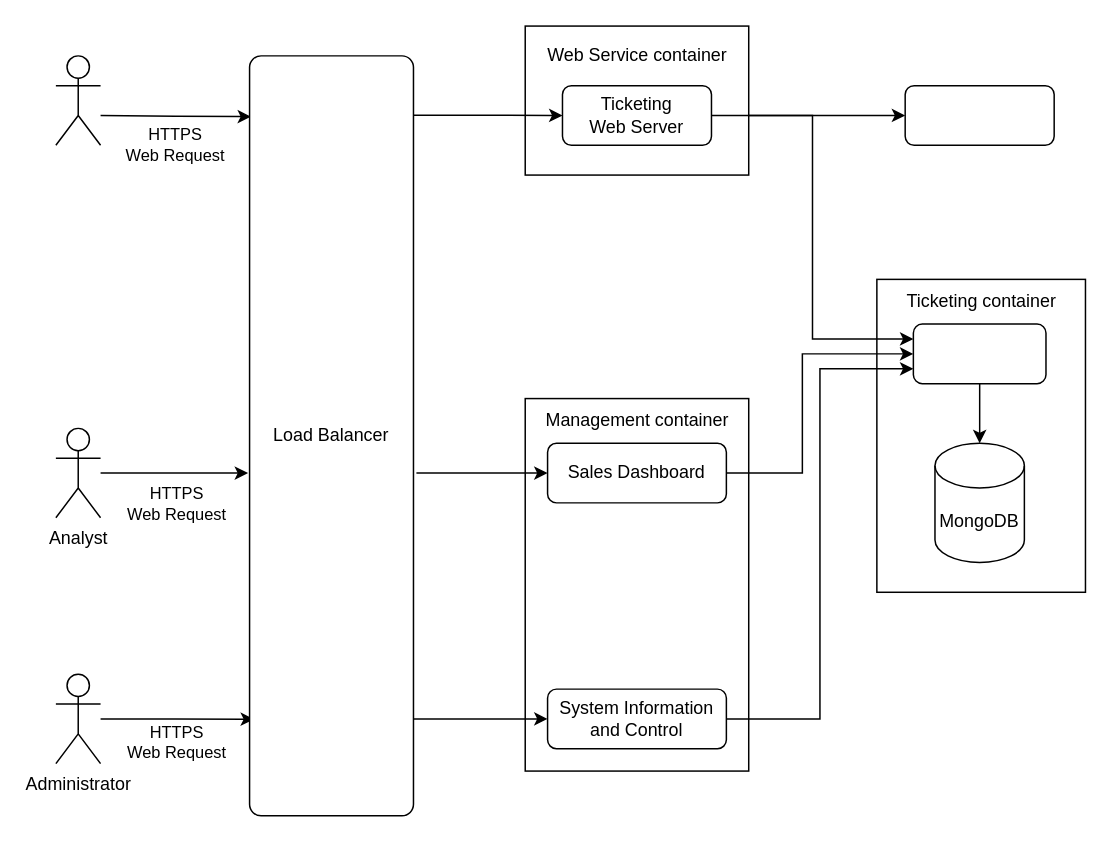
Image size: 1112x842. Some labels were removed from this diagram. Each missing label, with the centre of its shape:
"End User" goes at point 77,99.
"Fulfillment System API" goes at point 979,114.
"Ticketing Systems API" goes at point 979,353.
